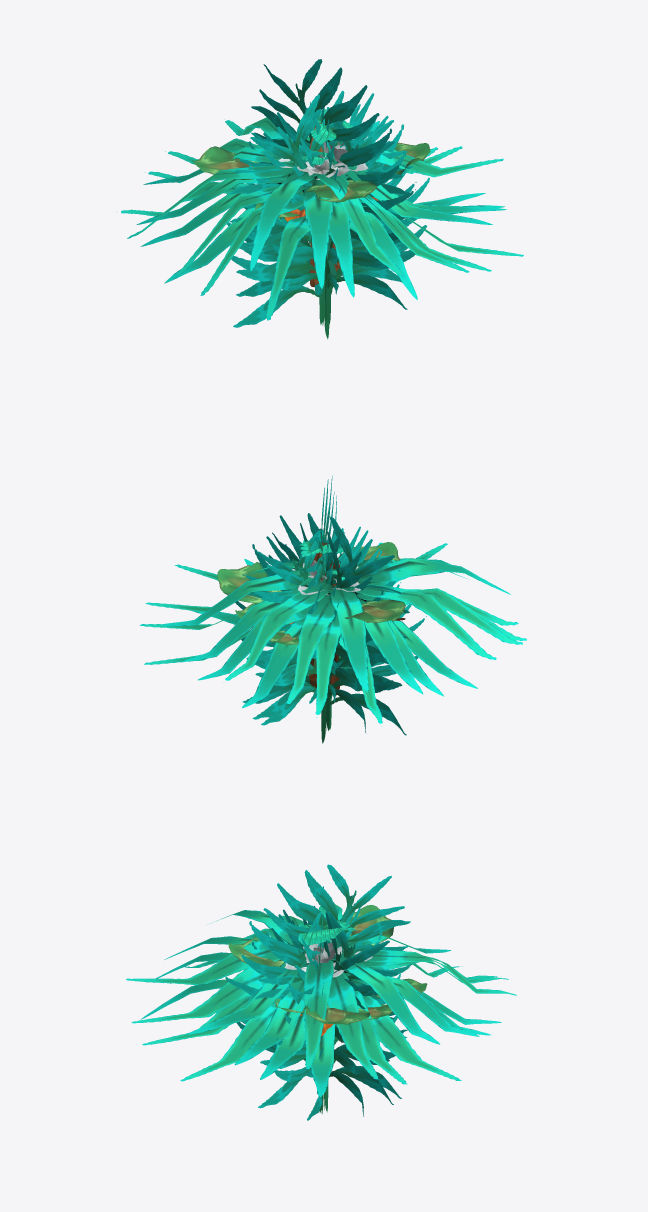
Rendered from PlaneEnvironmentSet01.fbx.
3 renders of one model, top to bottom at view 1: azimuth 30°, elevation 25°; view 2: azimuth 150°, elevation 25°; view 3: azimuth 270°, elevation 25°, orthographic. The views are drawn at different scales.
Visible parts, largest first — view 1: FoxPeeCluster, FernCliuster, SwampGrass Cluster005, Green Stem001, Kamini; view 2: FoxPeeCluster, FernCliuster, SwampGrass Cluster005; view 3: FoxPeeCluster, FernCliuster, SwampGrass Cluster005, Green Stem001.
Part boxes in pixels (x1,y1,x2,y2): FoxPeeCluster: (116,117,523,320); FernCliuster: (226,59,434,339); SwampGrass Cluster005: (192,142,430,243); Green Stem001: (300,109,352,276); Kamini: (303,142,357,255); FoxPeeCluster: (139,540,526,726); FernCliuster: (235,475,426,743); SwampGrass Cluster005: (217,542,405,670); FoxPeeCluster: (126,904,516,1097); FernCliuster: (223,864,412,1120); SwampGrass Cluster005: (228,905,427,1042); Green Stem001: (298,920,356,948).
Size of the model in its own units: 59.94 by 30.74 by 59.24.
